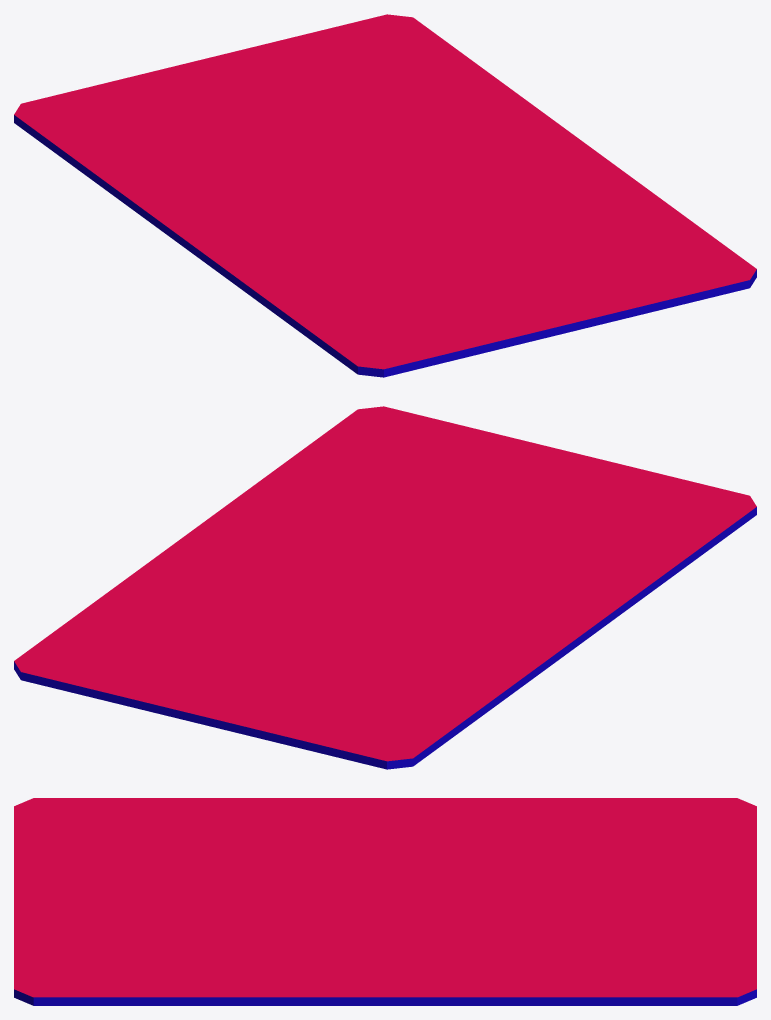
Rendered from card.fbx.
3 renders of one model, top to bottom at view 1: azimuth 30°, elevation 25°; view 2: azimuth 150°, elevation 25°; view 3: azimuth 270°, elevation 25°, orthographic. The views are drawn at different scales.
Parts seen in each view (by area): view 1: Card; view 2: Card; view 3: Card.
Boxes of the visible parts, x1,y1,x2,y2 form: Card: [14, 14, 756, 377]; Card: [14, 406, 756, 769]; Card: [14, 798, 756, 1005].
Size of the model in its own units: 0.508 by 0.01 by 0.8.
